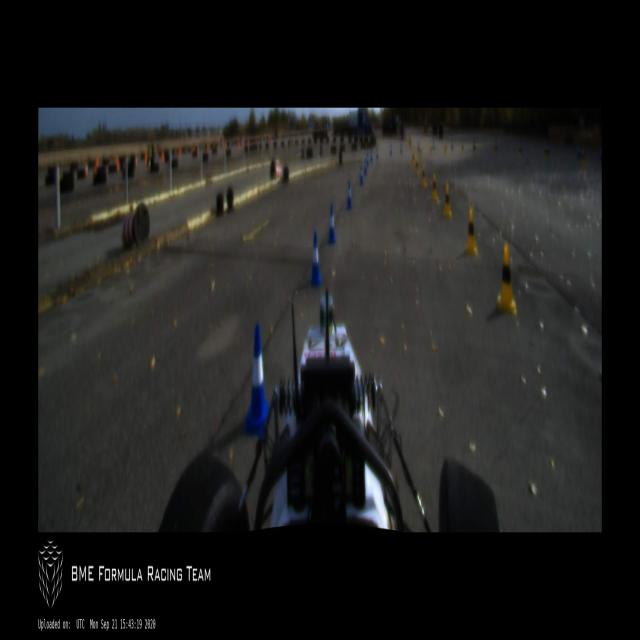blue_cone: (243, 322, 269, 436), (310, 231, 322, 287), (327, 204, 336, 244), (346, 181, 352, 210), (359, 166, 364, 186), (364, 157, 367, 176), (370, 147, 373, 161), (367, 152, 369, 169), (376, 145, 378, 160), (390, 142, 392, 156)
yellow_cone: (497, 242, 518, 315), (465, 206, 478, 256), (442, 182, 452, 220), (432, 172, 438, 201), (421, 161, 427, 187), (580, 149, 586, 166), (543, 145, 548, 164), (415, 156, 419, 176), (411, 148, 415, 166), (518, 145, 521, 157)
